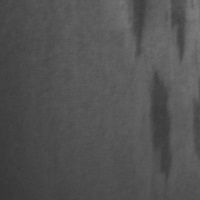inclusion: (147, 64, 176, 189), (163, 1, 194, 67), (128, 1, 149, 64)
